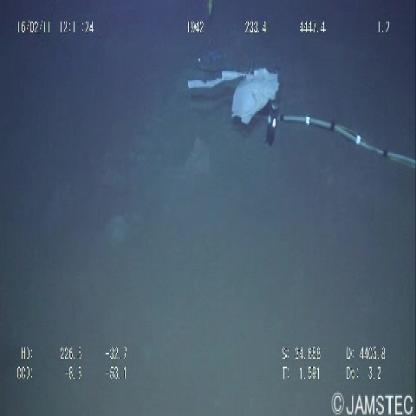Rác: (184, 57, 280, 131)
